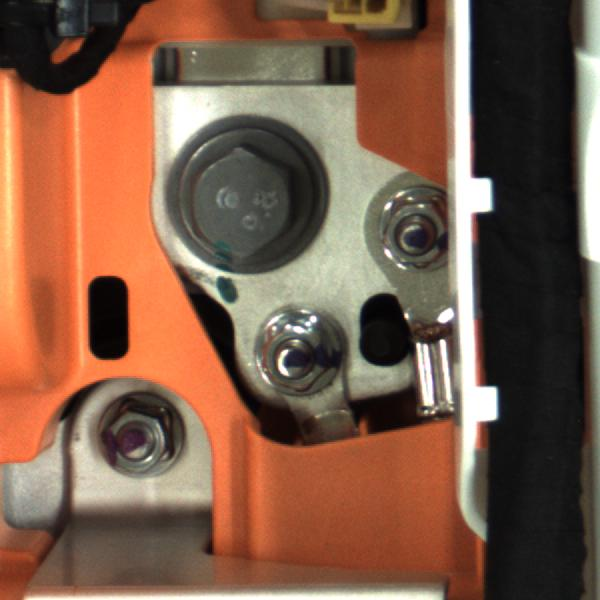nut_b: (152, 119, 329, 279)
screw_s: (95, 390, 191, 489), (251, 315, 341, 404), (374, 190, 461, 273)
